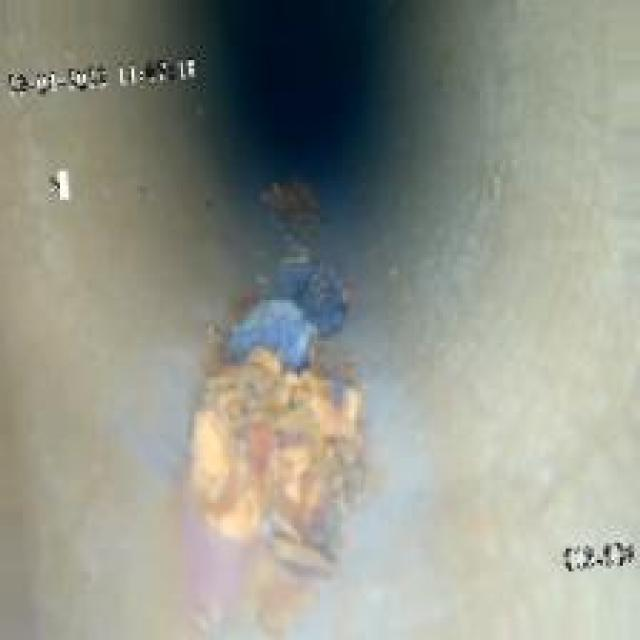stone: (186, 237, 397, 569)
